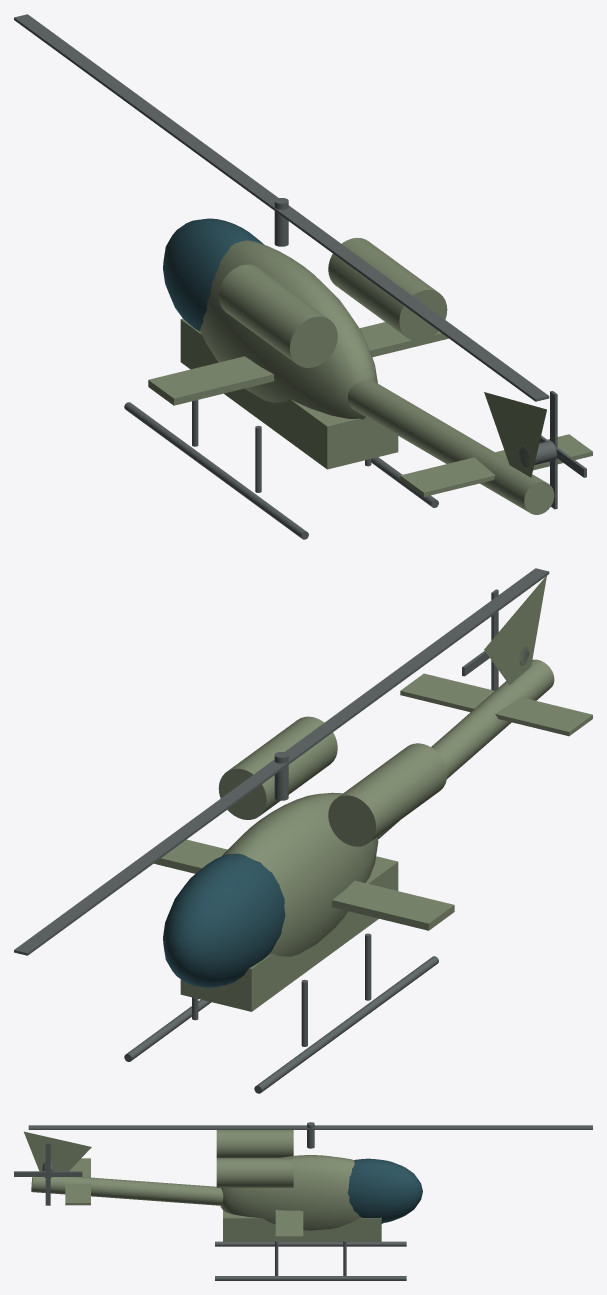
3 views of the same model, one above another, from view 1: azimuth 30°, elevation 25°; view 2: azimuth 150°, elevation 25°; view 3: azimuth 270°, elevation 25° (orthographic). The views are drawn at different scales.
Parts seen in each view (by area): view 1: Hull_MVP olive paint, Tail_MVP olive paint, MainRotor_MVP exposed metal, Hull_MVP optical glass, RunningGear_MVP exposed metal, Tail_MVP exposed metal; view 2: Hull_MVP olive paint, Hull_MVP optical glass, Tail_MVP olive paint, MainRotor_MVP exposed metal, RunningGear_MVP exposed metal, Tail_MVP exposed metal; view 3: Hull_MVP olive paint, Tail_MVP olive paint, Hull_MVP optical glass, MainRotor_MVP exposed metal, RunningGear_MVP exposed metal, Tail_MVP exposed metal.
Part boxes in pixels (x1,y1,x2,y2): Hull_MVP olive paint: [148, 238, 448, 469]; Tail_MVP olive paint: [347, 379, 592, 514]; MainRotor_MVP exposed metal: [14, 14, 549, 401]; Hull_MVP optical glass: [163, 218, 264, 331]; RunningGear_MVP exposed metal: [124, 400, 438, 539]; Tail_MVP exposed metal: [519, 391, 586, 509]; Hull_MVP olive paint: [154, 716, 454, 1011]; Hull_MVP optical glass: [163, 853, 285, 987]; Tail_MVP olive paint: [377, 576, 592, 839]; MainRotor_MVP exposed metal: [14, 568, 549, 955]; RunningGear_MVP exposed metal: [124, 933, 438, 1093]; Tail_MVP exposed metal: [462, 589, 529, 690]; Hull_MVP olive paint: [216, 1130, 383, 1241]; Tail_MVP olive paint: [24, 1131, 223, 1205]; Hull_MVP optical glass: [347, 1158, 422, 1223]; MainRotor_MVP exposed metal: [28, 1122, 592, 1148]; RunningGear_MVP exposed metal: [215, 1240, 406, 1280]; Tail_MVP exposed metal: [14, 1142, 82, 1205].
Bounding box in the file's own units: 4.1 × 3.61 × 13.54.
